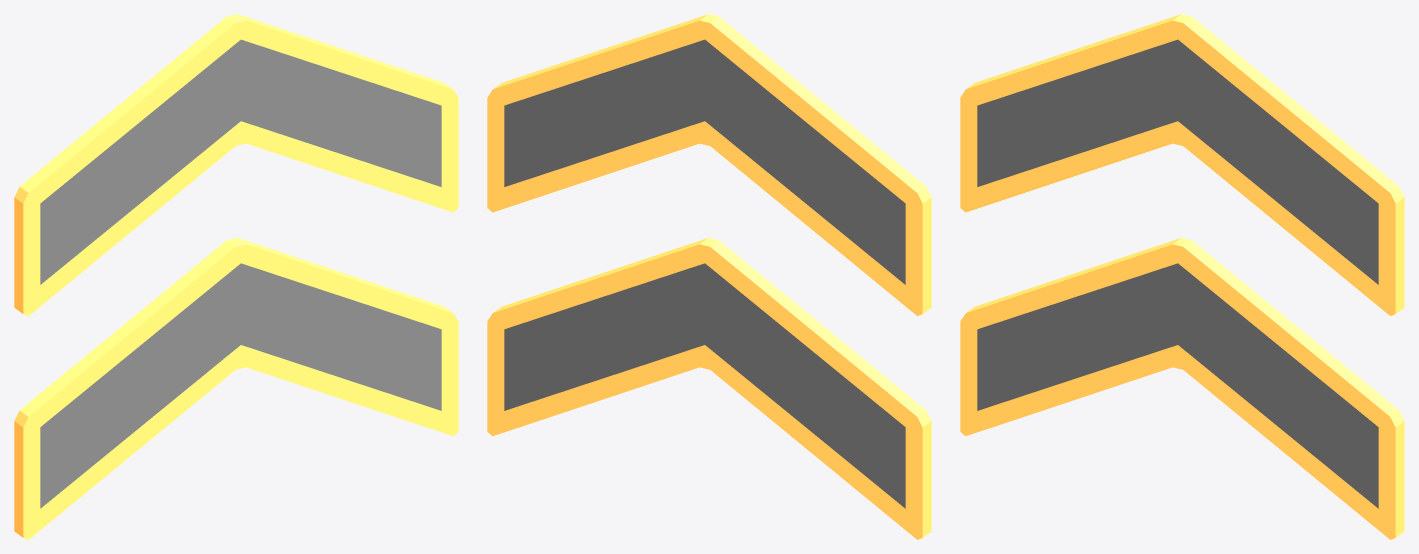
Rendered from Arrows.fbx.
3 views of the same model, side by side, from view 1: azimuth 30°, elevation 25°; view 2: azimuth 150°, elevation 25°; view 3: azimuth 330°, elevation 25° (orthographic).
Visible parts, largest first — view 1: Cube.003; view 2: Cube.003; view 3: Cube.003.
Boxes of the visible parts, box(x1,y1,x2,y2) form: Cube.003: box(14, 14, 458, 539); Cube.003: box(487, 14, 931, 539); Cube.003: box(960, 14, 1404, 539).
Bounding box in the file's own units: 217 × 222 × 7.76.
